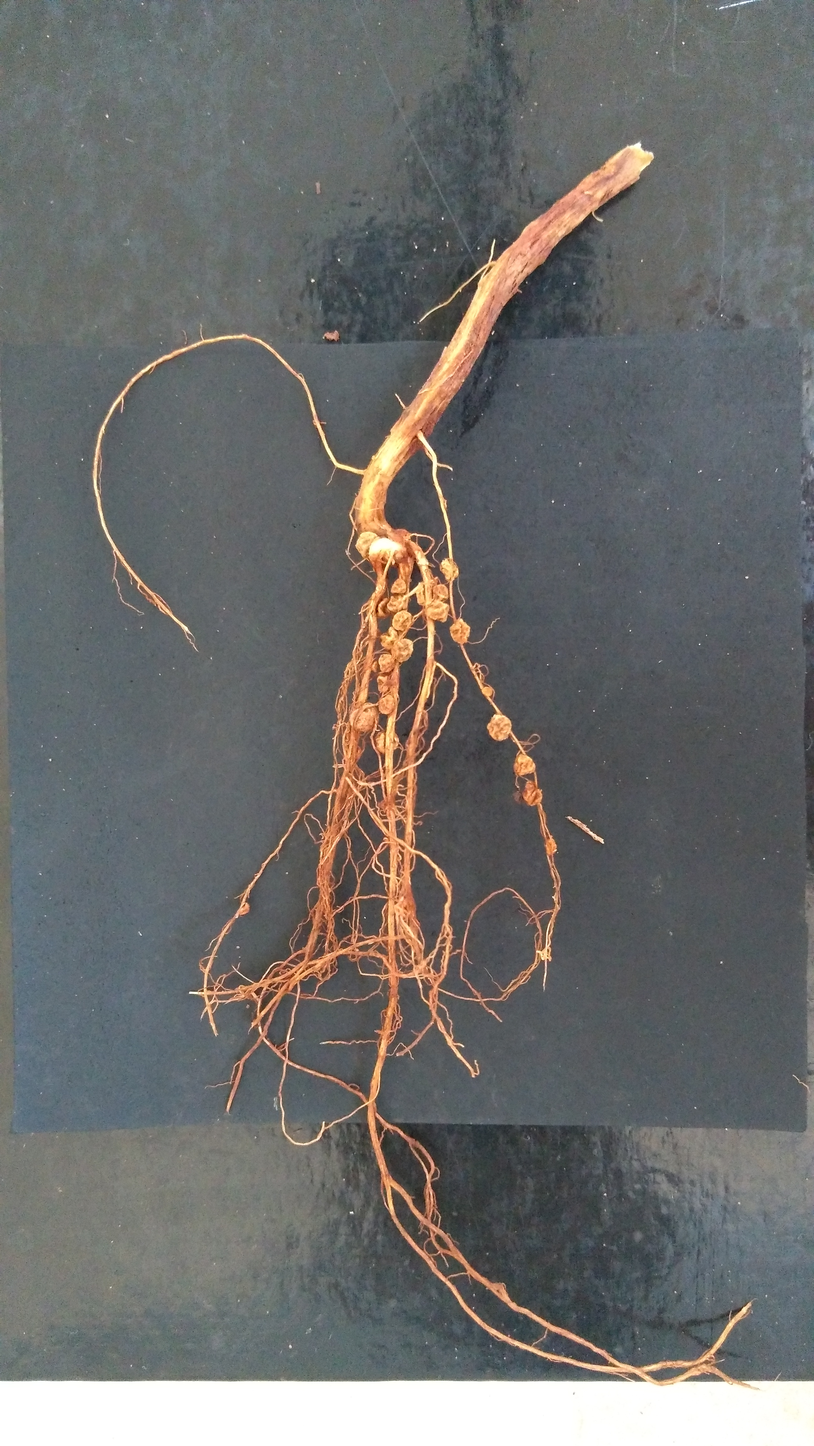nodule: (369, 536, 407, 564), (350, 702, 379, 733), (487, 714, 511, 740), (375, 729, 399, 754), (449, 618, 470, 644), (356, 532, 377, 558), (366, 597, 390, 619), (391, 638, 413, 662), (522, 781, 542, 806), (514, 754, 535, 776), (441, 558, 459, 581), (392, 611, 412, 631), (380, 629, 399, 650), (387, 595, 408, 611), (378, 695, 395, 714), (379, 654, 396, 672), (377, 672, 391, 693), (390, 579, 406, 593), (546, 837, 557, 855), (373, 661, 383, 673), (240, 903, 250, 915), (354, 745, 361, 762), (482, 686, 493, 696)
